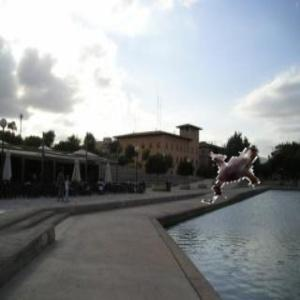drone: (183, 117, 281, 215)
